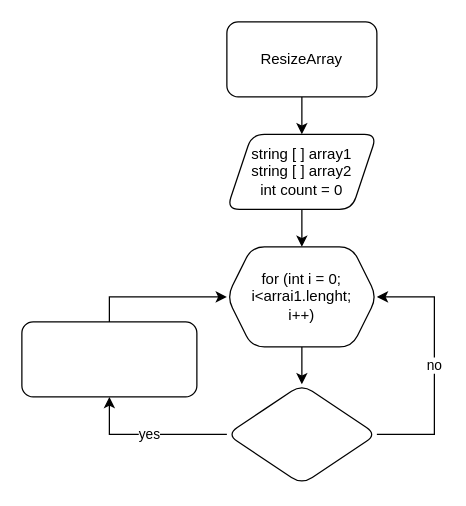
Some shapes in this 466 by 506 pixel diagram are drawn without their labels. Each missing label, with the centre of its shape:
array2[count] = arrai1[i] count++: [109,359]
if (arrai1[i]<=3): [301,433]
